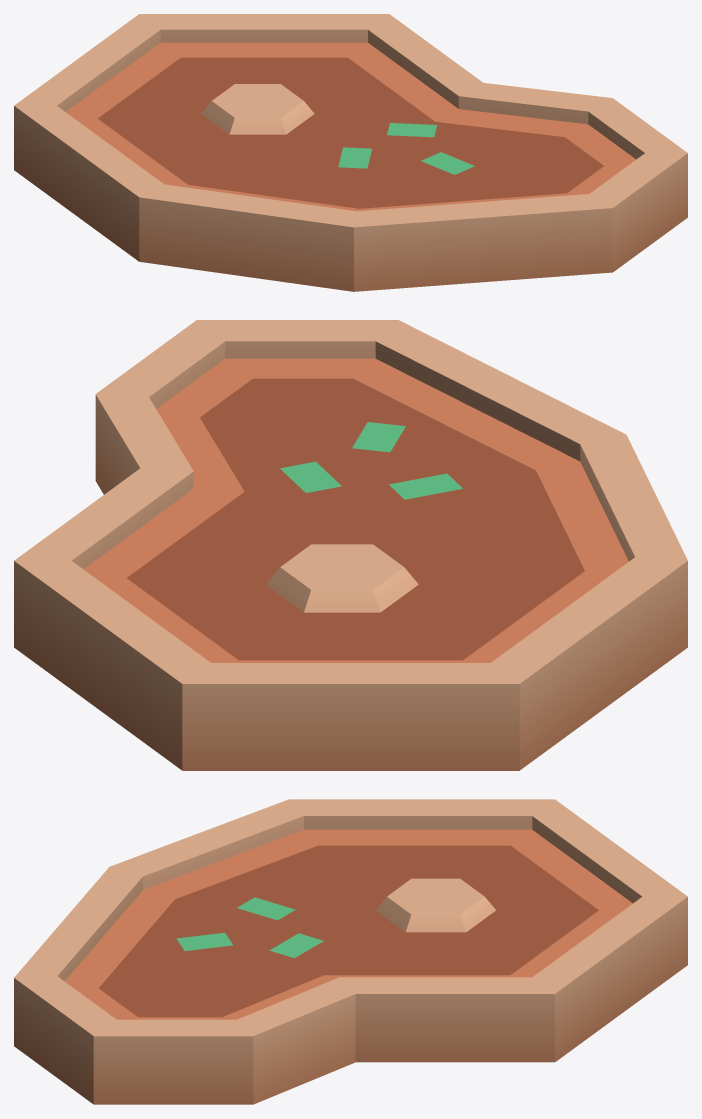
File: MeatPortion.obj
The picture shows the model from 3 angles, top to bottom: view 1: azimuth 30°, elevation 25°; view 2: azimuth 150°, elevation 25°; view 3: azimuth 270°, elevation 25°; orthographic projection. The views are drawn at different scales.
Visible parts, largest first — view 1: meat-cooked; view 2: meat-cooked; view 3: meat-cooked.
Part boxes in pixels (x1,y1,x2,y2): meat-cooked: (14, 14, 687, 291); meat-cooked: (14, 320, 687, 770); meat-cooked: (14, 799, 687, 1104).
Size of the model in its own units: 0.4785 by 0.0645 by 0.5754.
1 material, 1 textured.
